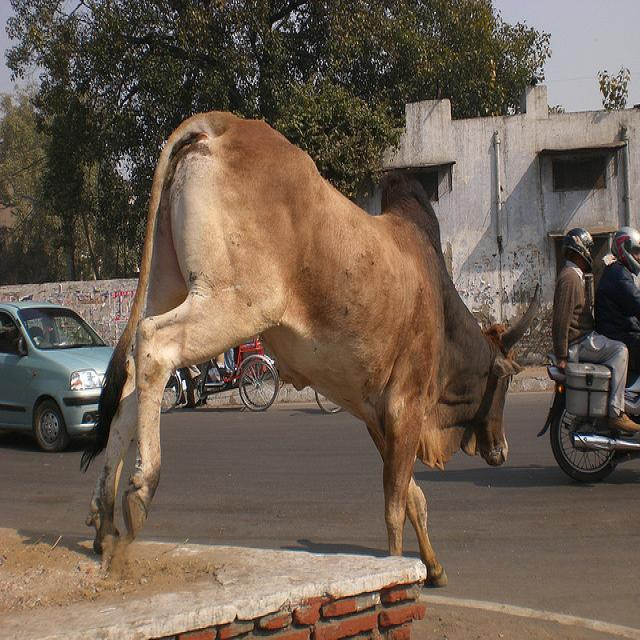cow: (76, 107, 543, 589)
